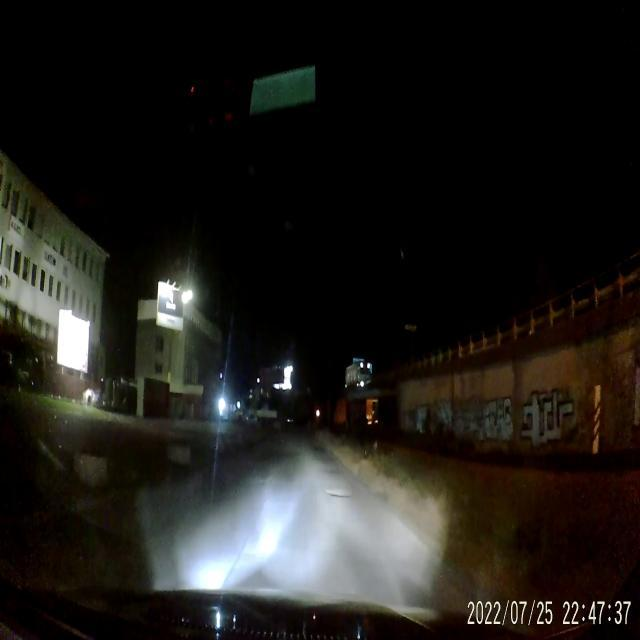Pothole: (326, 486, 350, 506)
